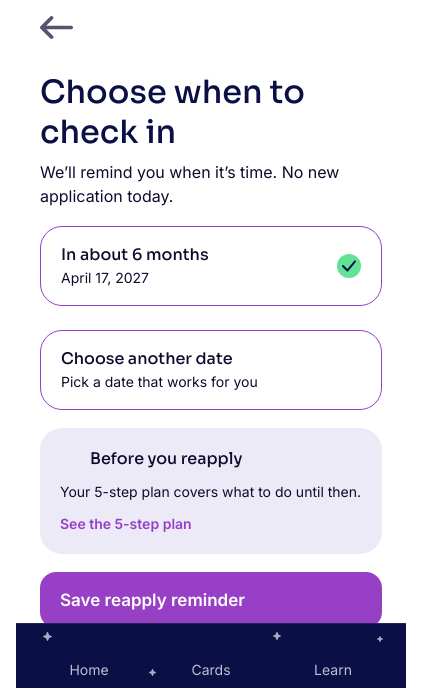
Test: ReminderSetup › says that the card was not found (404) and stays on this screen
The image size is (423, 688).
Click the button "Save reapply reminder" at (211, 600), box 40,572 -> 382,628
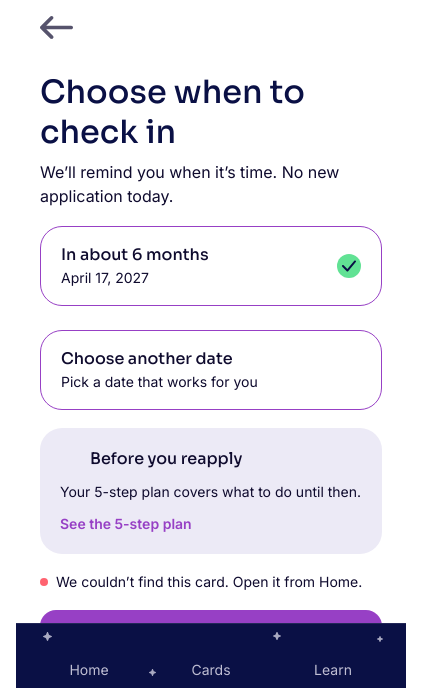
Check: the message reads "We couldn’t find this card. Open it from Home.", box 56,573 -> 362,590
